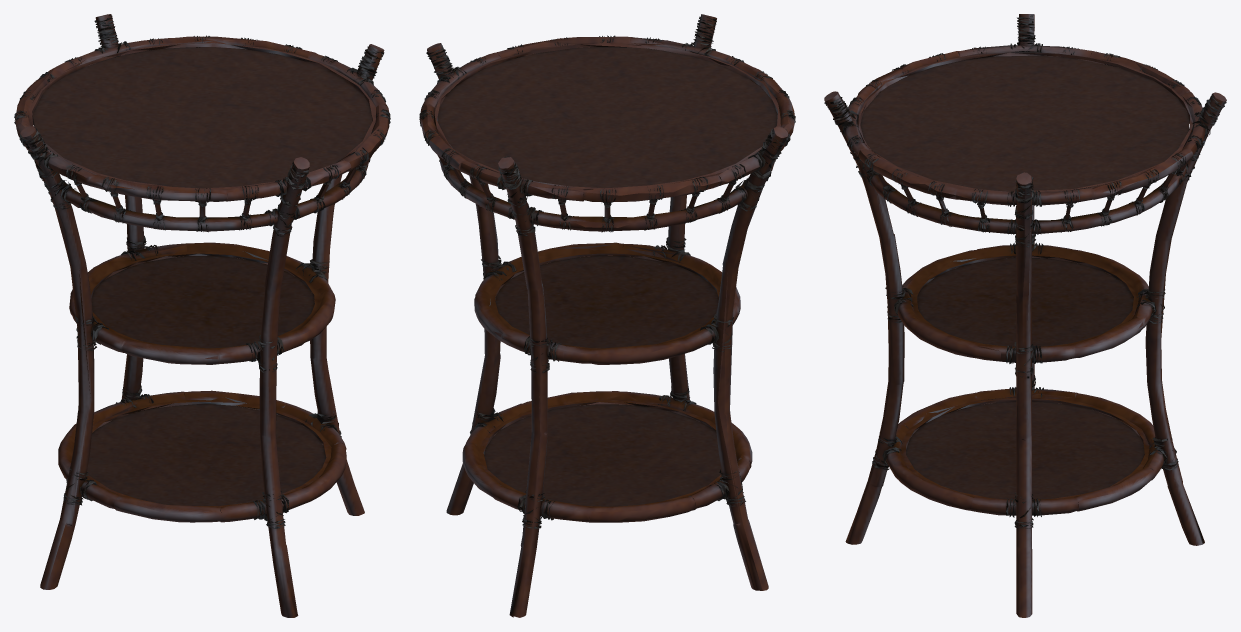
File: raw_model.obj
3 renders of one model, left to right at view 1: azimuth 30°, elevation 25°; view 2: azimuth 150°, elevation 25°; view 3: azimuth 270°, elevation 25°, orthographic. The views are drawn at different scales.
Parts seen in each view (by area): view 1: solid_003, solid_002, solid_001; view 2: solid_003, solid_002, solid_001; view 3: solid_003, solid_002, solid_001.
Part boxes in pixels (box(x1,y1,x2,y2)): solid_003: box(32, 47, 372, 506); solid_002: box(15, 14, 389, 617); solid_001: box(14, 15, 390, 528); solid_003: box(437, 47, 777, 506); solid_002: box(420, 14, 794, 617); solid_001: box(419, 16, 795, 528); solid_003: box(860, 55, 1189, 499); solid_002: box(824, 14, 1226, 617); solid_001: box(824, 15, 1226, 528).
Bounding box in the file's own units: 0.7336 × 0.9018 × 0.7337.
1 material, 1 textured.
